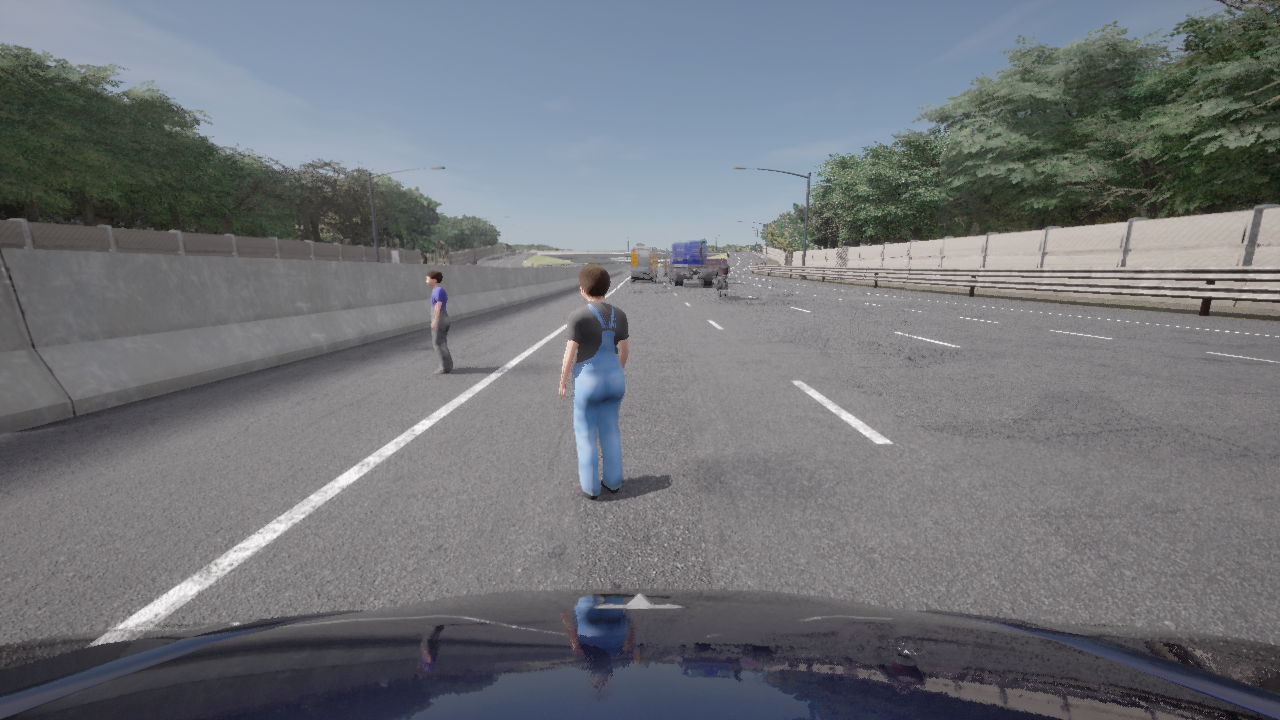cyclist: (0, 588, 1279, 719), (665, 240, 713, 286), (631, 244, 656, 276), (631, 265, 654, 282), (705, 259, 720, 278), (717, 281, 724, 299), (661, 257, 668, 275)
pedestrian: (558, 264, 628, 499), (425, 269, 453, 373), (442, 261, 444, 264)
